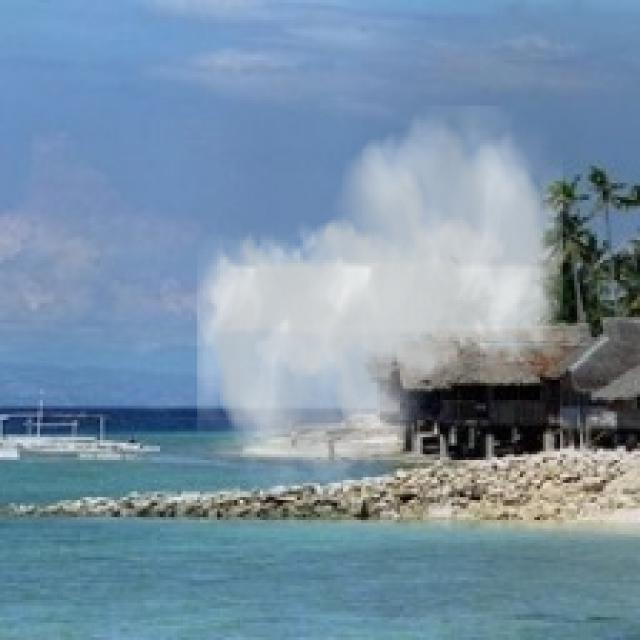Smoke: (197, 106, 563, 492)
